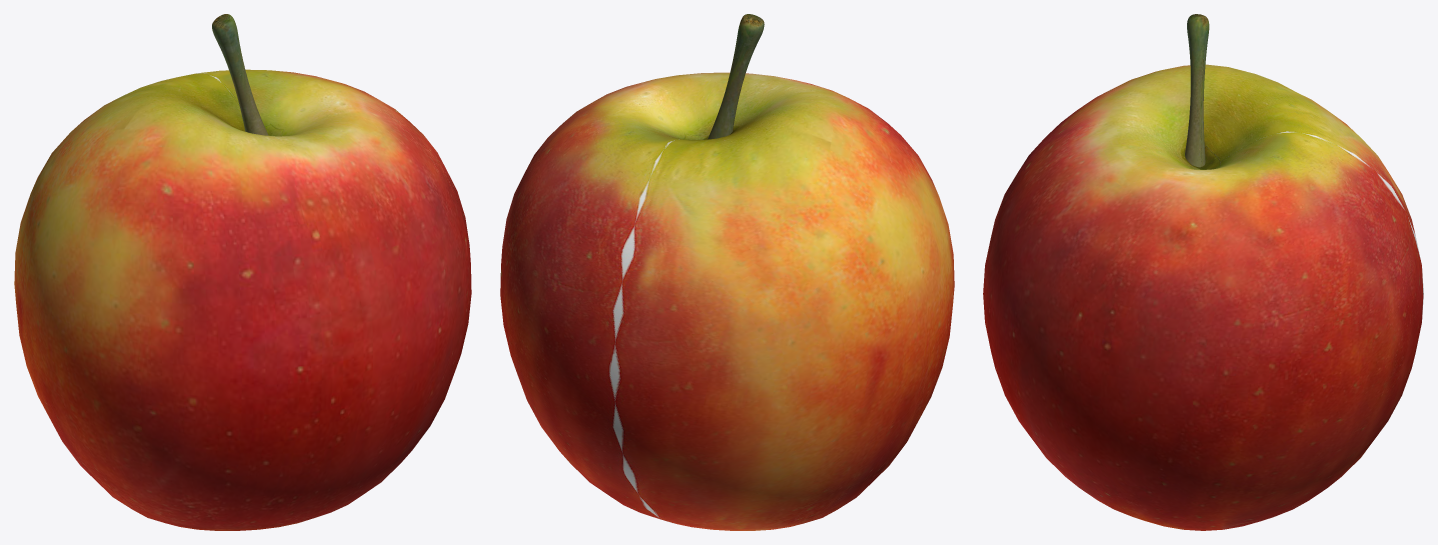
Rendered from apple-lod2.glb.
3 views of the same model, side by side, from view 1: azimuth 30°, elevation 25°; view 2: azimuth 150°, elevation 25°; view 3: azimuth 270°, elevation 25° (orthographic). The views are drawn at different scales.
Parts seen in each view (by area): view 1: apple_Sphere; view 2: apple_Sphere; view 3: apple_Sphere.
Boxes of the visible parts, x1,y1,x2,y2 form: apple_Sphere: (14, 14, 471, 530); apple_Sphere: (500, 14, 954, 530); apple_Sphere: (983, 14, 1423, 530).
Size of the model in its own units: 0.1099 by 0.1294 by 0.1095.
Materials: 1 (1 with a texture image).
